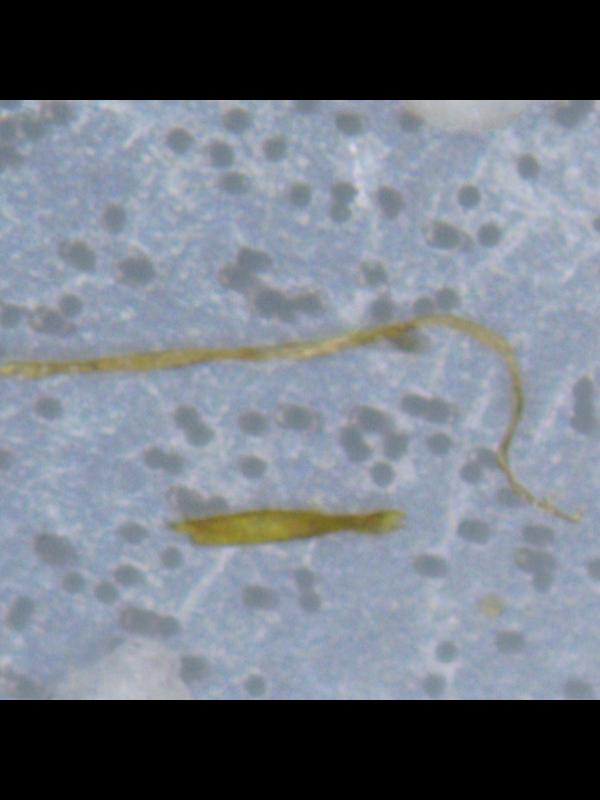microplastic: (0, 311, 585, 528), (169, 507, 408, 549)
